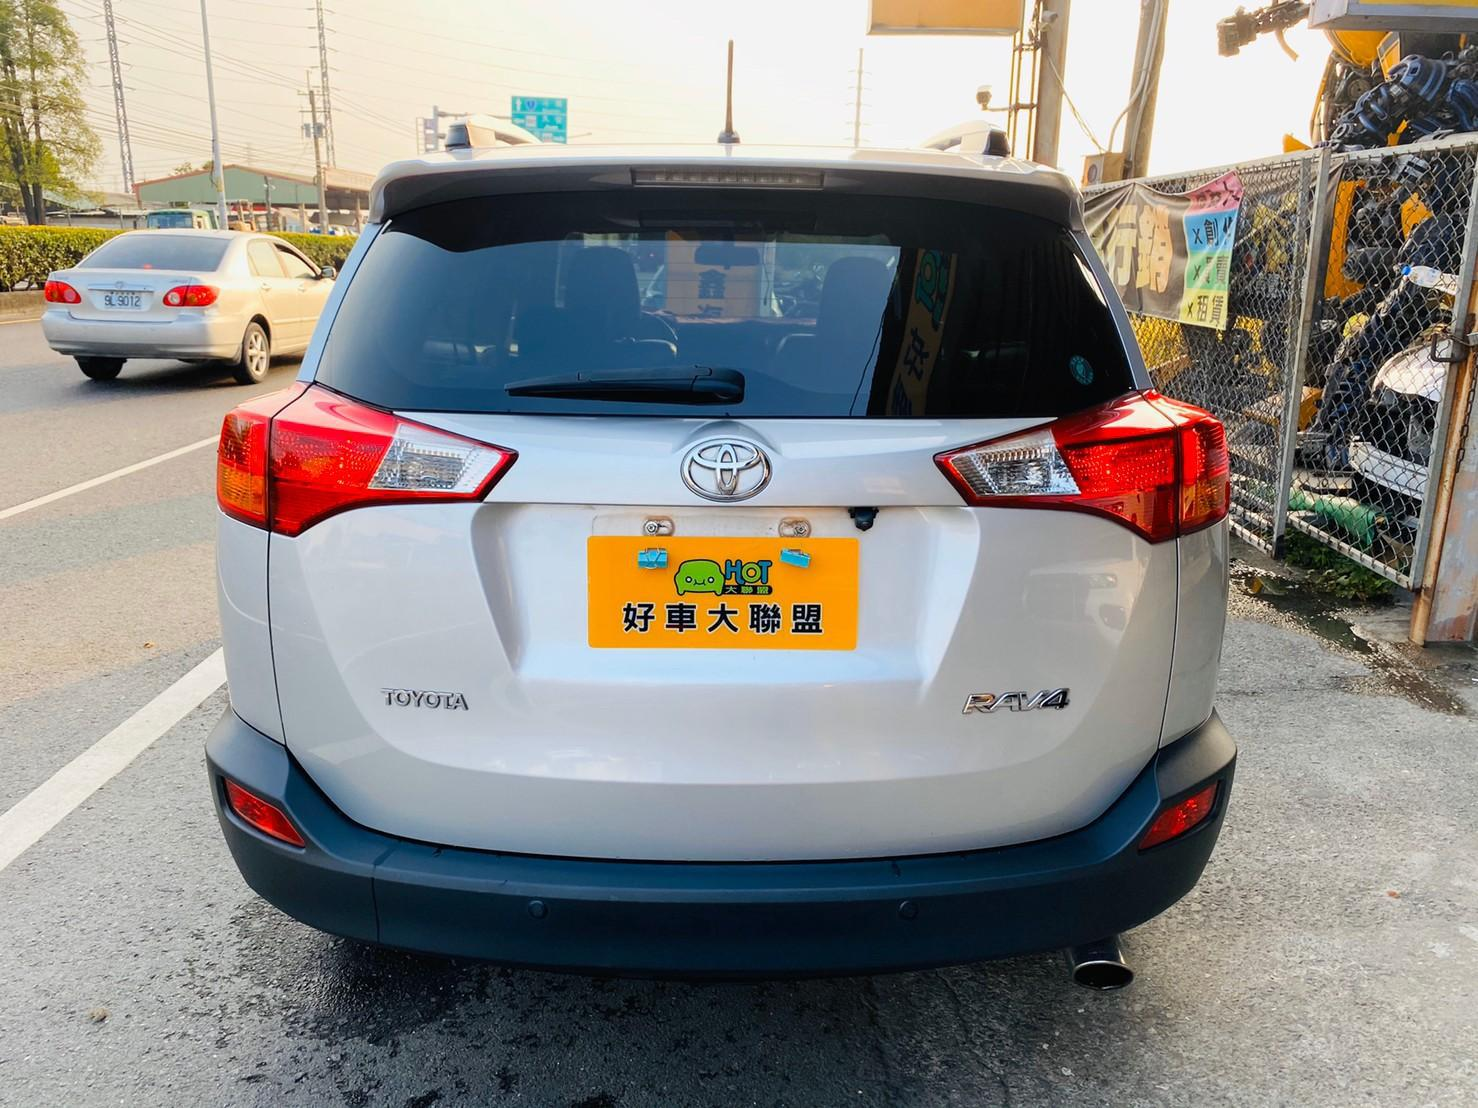toyota_rav4: (210, 147, 1233, 964)
